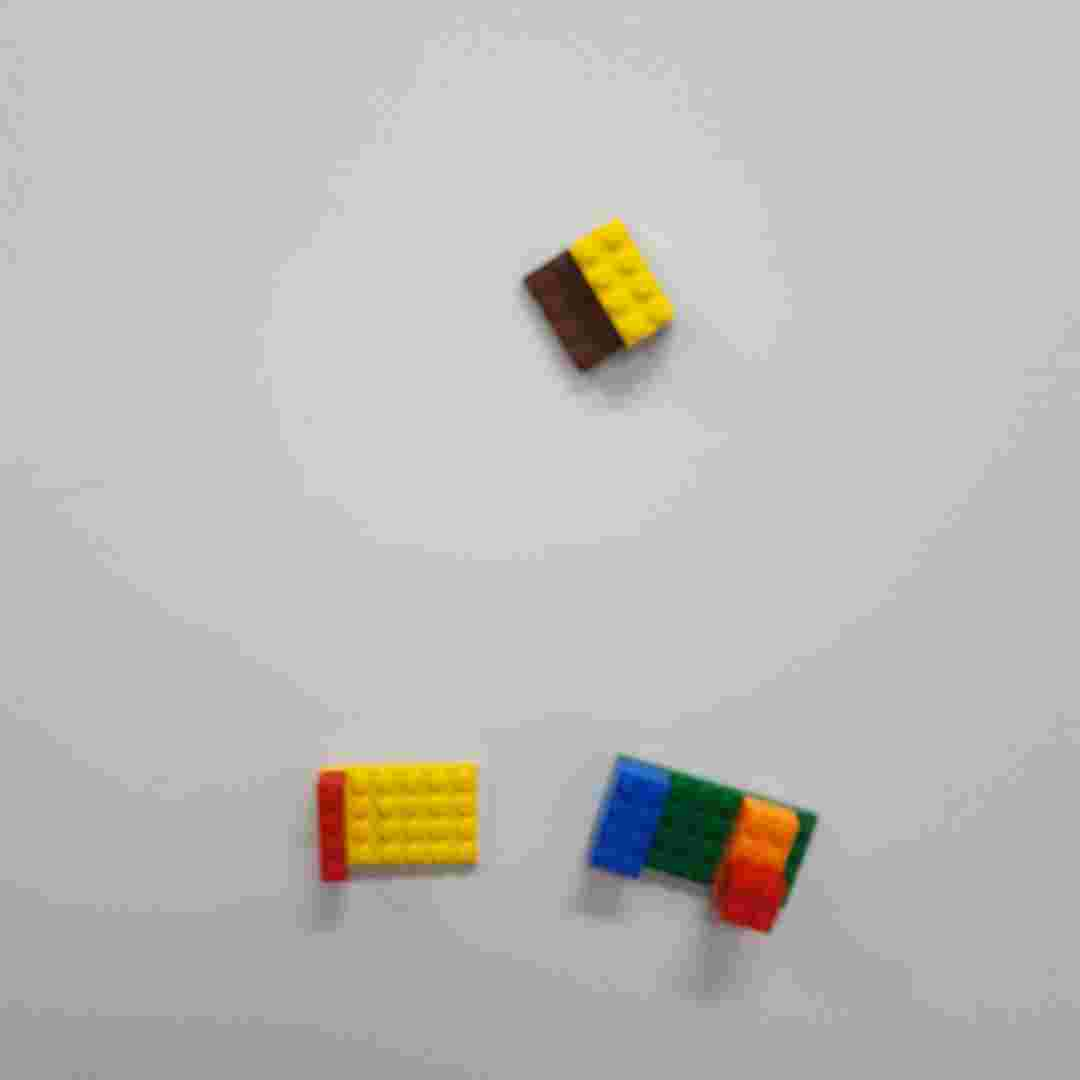LEGO: (590, 753, 820, 934), (520, 216, 679, 375), (312, 764, 489, 882)
